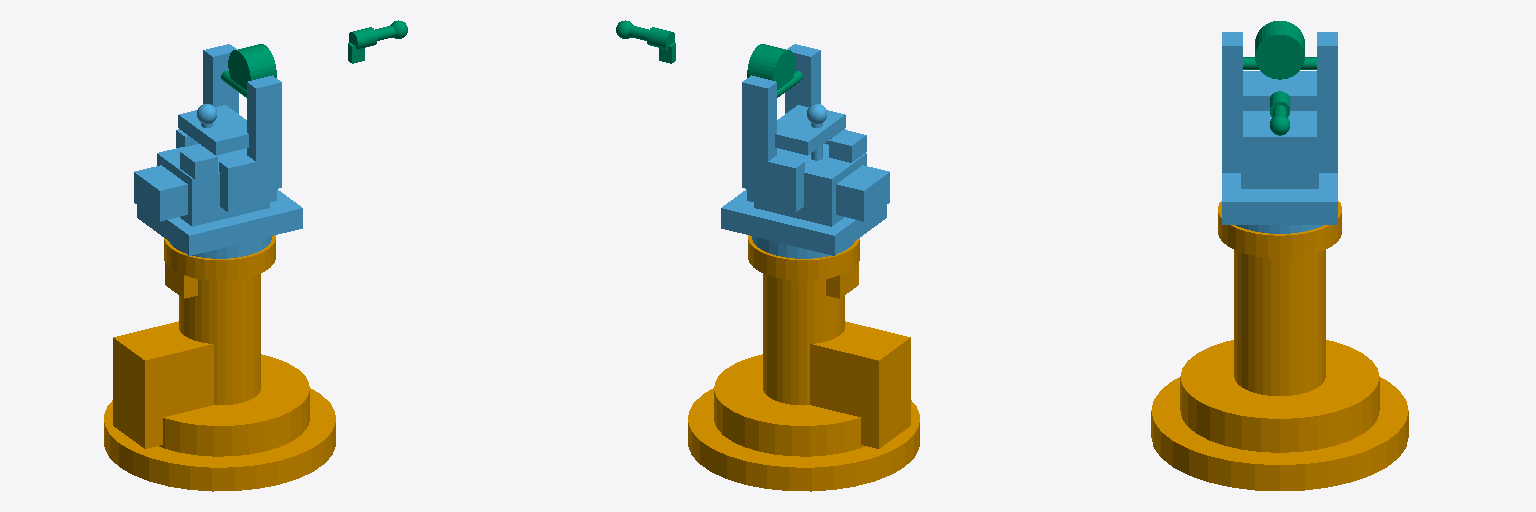
URDF robot description (radar_dish):
<robot name="radar_dish">
  <link name="pedestal">
    <inertial>
      <origin xyz="0 0 0.625" rpy="0 0 0" />
      <mass value="620" />
      <inertia ixx="160.172" ixy="0" ixz="0" iyy="160.172" iyz="0" izz="158.885" />
    </inertial>
    <visual>
      <origin xyz="0 0 0.07" rpy="0 0 0" />
      <geometry>
        <cylinder radius="0.62" length="0.14" />
      </geometry>
    </visual>
    <visual>
      <origin xyz="0 0 0.23" rpy="0 0 0" />
      <geometry>
        <cylinder radius="0.48" length="0.18" />
      </geometry>
    </visual>
    <visual>
      <origin xyz="0 0 0.7" rpy="0 0 0" />
      <geometry>
        <cylinder radius="0.22" length="0.78" />
      </geometry>
    </visual>
    <visual>
      <origin xyz="0 0 1.15" rpy="0 0 0" />
      <geometry>
        <cylinder radius="0.3" length="0.12" />
      </geometry>
    </visual>
    <visual>
      <origin xyz="-0.34 0 0.42" rpy="0 0 0" />
      <geometry>
        <box size="0.44 0.34 0.52" />
      </geometry>
    </visual>
    <visual>
      <origin xyz="-0.2 0 1.04" rpy="0 0 0" />
      <geometry>
        <box size="0.16 0.2 0.18" />
      </geometry>
    </visual>
    <collision name="pedestal__visual_1">
      <origin xyz="0 0 0.07" rpy="0 0 0" />
      <geometry>
        <cylinder radius="0.62" length="0.14" />
      </geometry>
    </collision>
    <collision name="pedestal__visual_2">
      <origin xyz="0 0 0.23" rpy="0 0 0" />
      <geometry>
        <cylinder radius="0.48" length="0.18" />
      </geometry>
    </collision>
    <collision name="pedestal__visual_3">
      <origin xyz="0 0 0.7" rpy="0 0 0" />
      <geometry>
        <cylinder radius="0.22" length="0.78" />
      </geometry>
    </collision>
    <collision name="pedestal__visual_4">
      <origin xyz="0 0 1.15" rpy="0 0 0" />
      <geometry>
        <cylinder radius="0.3" length="0.12" />
      </geometry>
    </collision>
    <collision name="pedestal__visual_5">
      <origin xyz="-0.34 0 0.42" rpy="0 0 0" />
      <geometry>
        <box size="0.44 0.34 0.52" />
      </geometry>
    </collision>
    <collision name="pedestal__visual_6">
      <origin xyz="-0.2 0 1.04" rpy="0 0 0" />
      <geometry>
        <box size="0.16 0.2 0.18" />
      </geometry>
    </collision>
  </link>
  <link name="yaw_head">
    <inertial>
      <origin xyz="0 0 0.54" rpy="0 0 0" />
      <mass value="210" />
      <inertia ixx="26.712" ixy="0" ixz="0" iyy="31.059" iyz="0" izz="16.947" />
    </inertial>
    <visual>
      <origin xyz="0 0 0.04" rpy="0 0 0" />
      <geometry>
        <cylinder radius="0.28" length="0.08" />
      </geometry>
    </visual>
    <visual>
      <origin xyz="0 0 0.14" rpy="0 0 0" />
      <geometry>
        <box size="0.7 0.56 0.12" />
      </geometry>
    </visual>
    <visual>
      <origin xyz="-0.04 0 0.34" rpy="0 0 0" />
      <geometry>
        <box size="0.48 0.38 0.28" />
      </geometry>
    </visual>
    <visual>
      <origin xyz="-0.34 0 0.34" rpy="0 0 0" />
      <geometry>
        <box size="0.22 0.28 0.18" />
      </geometry>
    </visual>
    <visual>
      <origin xyz="0.04 0.23 0.41" rpy="0 0 0" />
      <geometry>
        <box size="0.3 0.1 0.26" />
      </geometry>
    </visual>
    <visual>
      <origin xyz="0.04 -0.23 0.41" rpy="0 0 0" />
      <geometry>
        <box size="0.3 0.1 0.26" />
      </geometry>
    </visual>
    <visual>
      <origin xyz="0.14 0.23 0.66" rpy="0 0 0" />
      <geometry>
        <box size="0.16 0.1 0.62" />
      </geometry>
    </visual>
    <visual>
      <origin xyz="0.14 -0.23 0.66" rpy="0 0 0" />
      <geometry>
        <box size="0.16 0.1 0.62" />
      </geometry>
    </visual>
    <visual>
      <origin xyz="0 0 0.63" rpy="0 0 0" />
      <geometry>
        <box size="0.28 0.4 0.08" />
      </geometry>
    </visual>
    <visual>
      <origin xyz="0.14 0.23 0.84" rpy="1.5708 0 0" />
      <geometry>
        <cylinder radius="0.08" length="0.1" />
      </geometry>
    </visual>
    <visual>
      <origin xyz="0.14 -0.23 0.84" rpy="1.5708 0 0" />
      <geometry>
        <cylinder radius="0.08" length="0.1" />
      </geometry>
    </visual>
    <visual>
      <origin xyz="-0.08 0 0.59" rpy="0 0 0" />
      <geometry>
        <cylinder radius="0.03" length="0.22" />
      </geometry>
    </visual>
    <visual>
      <origin xyz="-0.08 0 0.74" rpy="0 0 0" />
      <geometry>
        <sphere radius="0.055" />
      </geometry>
    </visual>
    <visual>
      <origin xyz="-0.2 -0.12 0.53" rpy="0 0 0" />
      <geometry>
        <box size="0.14 0.16 0.1" />
      </geometry>
    </visual>
    <collision name="yaw_head__visual_1">
      <origin xyz="0 0 0.04" rpy="0 0 0" />
      <geometry>
        <cylinder radius="0.28" length="0.08" />
      </geometry>
    </collision>
    <collision name="yaw_head__visual_2">
      <origin xyz="0 0 0.14" rpy="0 0 0" />
      <geometry>
        <box size="0.7 0.56 0.12" />
      </geometry>
    </collision>
    <collision name="yaw_head__visual_3">
      <origin xyz="-0.04 0 0.34" rpy="0 0 0" />
      <geometry>
        <box size="0.48 0.38 0.28" />
      </geometry>
    </collision>
    <collision name="yaw_head__visual_4">
      <origin xyz="-0.34 0 0.34" rpy="0 0 0" />
      <geometry>
        <box size="0.22 0.28 0.18" />
      </geometry>
    </collision>
    <collision name="yaw_head__visual_5">
      <origin xyz="0.04 0.23 0.41" rpy="0 0 0" />
      <geometry>
        <box size="0.3 0.1 0.26" />
      </geometry>
    </collision>
    <collision name="yaw_head__visual_6">
      <origin xyz="0.04 -0.23 0.41" rpy="0 0 0" />
      <geometry>
        <box size="0.3 0.1 0.26" />
      </geometry>
    </collision>
    <collision name="yaw_head__visual_7">
      <origin xyz="0.14 0.23 0.66" rpy="0 0 0" />
      <geometry>
        <box size="0.16 0.1 0.62" />
      </geometry>
    </collision>
    <collision name="yaw_head__visual_8">
      <origin xyz="0.14 -0.23 0.66" rpy="0 0 0" />
      <geometry>
        <box size="0.16 0.1 0.62" />
      </geometry>
    </collision>
    <collision name="yaw_head__visual_9">
      <origin xyz="0 0 0.63" rpy="0 0 0" />
      <geometry>
        <box size="0.28 0.4 0.08" />
      </geometry>
    </collision>
    <collision name="yaw_head__visual_10">
      <origin xyz="0.14 0.23 0.84" rpy="1.5708 0 0" />
      <geometry>
        <cylinder radius="0.08" length="0.1" />
      </geometry>
    </collision>
    <collision name="yaw_head__visual_11">
      <origin xyz="0.14 -0.23 0.84" rpy="1.5708 0 0" />
      <geometry>
        <cylinder radius="0.08" length="0.1" />
      </geometry>
    </collision>
    <collision name="yaw_head__visual_12">
      <origin xyz="-0.08 0 0.59" rpy="0 0 0" />
      <geometry>
        <cylinder radius="0.03" length="0.22" />
      </geometry>
    </collision>
    <collision name="yaw_head__visual_13">
      <origin xyz="-0.08 0 0.74" rpy="0 0 0" />
      <geometry>
        <sphere radius="0.055" />
      </geometry>
    </collision>
    <collision name="yaw_head__visual_14">
      <origin xyz="-0.2 -0.12 0.53" rpy="0 0 0" />
      <geometry>
        <box size="0.14 0.16 0.1" />
      </geometry>
    </collision>
  </link>
  <link name="dish_assembly">
    <inertial>
      <origin xyz="0.5 -0.23 0.12" rpy="0 0 0" />
      <mass value="95" />
      <inertia ixx="22.6005" ixy="0" ixz="0" iyy="29.5046" iyz="0" izz="10.5521" />
    </inertial>
    <visual>
      <origin xyz="0 -0.23 0" rpy="1.5708 0 0" />
      <geometry>
        <cylinder radius="0.03" length="0.46" />
      </geometry>
    </visual>
    <visual>
      <origin xyz="0.06 -0.23 0.1" rpy="0 1.5708 0" />
      <geometry>
        <cylinder radius="0.12" length="0.16" />
      </geometry>
    </visual>
    <visual>
      <origin xyz="0.09 -0.23 0.12" rpy="0 1.5708 0" />
      <geometry>
        <mesh filename="meshes/dish_shell.glb" />
      </geometry>
    </visual>
    <visual>
      <origin xyz="0 0 0.12" rpy="0 0 0" />
      <geometry>
        <mesh filename="meshes/feed_arm_top.glb" />
      </geometry>
    </visual>
    <visual>
      <origin xyz="0 0 0.12" rpy="0 0 0" />
      <geometry>
        <mesh filename="meshes/feed_arm_left.glb" />
      </geometry>
    </visual>
    <visual>
      <origin xyz="0 0 0.12" rpy="0 0 0" />
      <geometry>
        <mesh filename="meshes/feed_arm_right.glb" />
      </geometry>
    </visual>
    <visual>
      <origin xyz="0.74 -0.23 0.12" rpy="0 1.5708 0" />
      <geometry>
        <cylinder radius="0.05" length="0.12" />
      </geometry>
    </visual>
    <visual>
      <origin xyz="0.86 -0.23 0.12" rpy="0 1.5708 0" />
      <geometry>
        <cylinder radius="0.032" length="0.16" />
      </geometry>
    </visual>
    <visual>
      <origin xyz="0.96 -0.23 0.12" rpy="0 0 0" />
      <geometry>
        <sphere radius="0.05" />
      </geometry>
    </visual>
    <visual>
      <origin xyz="0.7 -0.23 0.05" rpy="0 0 0" />
      <geometry>
        <box size="0.08 0.05 0.1" />
      </geometry>
    </visual>
    <collision name="dish_assembly__visual_1">
      <origin xyz="0 -0.23 0" rpy="1.5708 0 0" />
      <geometry>
        <cylinder radius="0.03" length="0.46" />
      </geometry>
    </collision>
    <collision name="dish_assembly__visual_2">
      <origin xyz="0.06 -0.23 0.1" rpy="0 1.5708 0" />
      <geometry>
        <cylinder radius="0.12" length="0.16" />
      </geometry>
    </collision>
    <collision name="dish_assembly__visual_3__hull_001">
      <origin xyz="0.09 -0.23 0.12" rpy="0 1.5708 0" />
      <geometry>
        <mesh filename="meshes/collision/cache/731ca2b1d0dae9eb1fc75119__hull_001.obj" />
      </geometry>
    </collision>
    <collision name="dish_assembly__visual_3__hull_002">
      <origin xyz="0.09 -0.23 0.12" rpy="0 1.5708 0" />
      <geometry>
        <mesh filename="meshes/collision/cache/731ca2b1d0dae9eb1fc75119__hull_002.obj" />
      </geometry>
    </collision>
    <collision name="dish_assembly__visual_3__hull_003">
      <origin xyz="0.09 -0.23 0.12" rpy="0 1.5708 0" />
      <geometry>
        <mesh filename="meshes/collision/cache/731ca2b1d0dae9eb1fc75119__hull_003.obj" />
      </geometry>
    </collision>
    <collision name="dish_assembly__visual_3__hull_004">
      <origin xyz="0.09 -0.23 0.12" rpy="0 1.5708 0" />
      <geometry>
        <mesh filename="meshes/collision/cache/731ca2b1d0dae9eb1fc75119__hull_004.obj" />
      </geometry>
    </collision>
    <collision name="dish_assembly__visual_3__hull_005">
      <origin xyz="0.09 -0.23 0.12" rpy="0 1.5708 0" />
      <geometry>
        <mesh filename="meshes/collision/cache/731ca2b1d0dae9eb1fc75119__hull_005.obj" />
      </geometry>
    </collision>
    <collision name="dish_assembly__visual_3__hull_006">
      <origin xyz="0.09 -0.23 0.12" rpy="0 1.5708 0" />
      <geometry>
        <mesh filename="meshes/collision/cache/731ca2b1d0dae9eb1fc75119__hull_006.obj" />
      </geometry>
    </collision>
    <collision name="dish_assembly__visual_3__hull_007">
      <origin xyz="0.09 -0.23 0.12" rpy="0 1.5708 0" />
      <geometry>
        <mesh filename="meshes/collision/cache/731ca2b1d0dae9eb1fc75119__hull_007.obj" />
      </geometry>
    </collision>
    <collision name="dish_assembly__visual_3__hull_008">
      <origin xyz="0.09 -0.23 0.12" rpy="0 1.5708 0" />
      <geometry>
        <mesh filename="meshes/collision/cache/731ca2b1d0dae9eb1fc75119__hull_008.obj" />
      </geometry>
    </collision>
    <collision name="dish_assembly__visual_4__hull_001">
      <origin xyz="0 0 0.12" rpy="0 0 0" />
      <geometry>
        <mesh filename="meshes/collision/cache/6a17ebba487c32fb1dcc4fa0__hull_001.obj" />
      </geometry>
    </collision>
    <collision name="dish_assembly__visual_4__hull_002">
      <origin xyz="0 0 0.12" rpy="0 0 0" />
      <geometry>
        <mesh filename="meshes/collision/cache/6a17ebba487c32fb1dcc4fa0__hull_002.obj" />
      </geometry>
    </collision>
    <collision name="dish_assembly__visual_4__hull_003">
      <origin xyz="0 0 0.12" rpy="0 0 0" />
      <geometry>
        <mesh filename="meshes/collision/cache/6a17ebba487c32fb1dcc4fa0__hull_003.obj" />
      </geometry>
    </collision>
    <collision name="dish_assembly__visual_5__hull_001">
      <origin xyz="0 0 0.12" rpy="0 0 0" />
      <geometry>
        <mesh filename="meshes/collision/cache/edaf54029e82f01c8b76296b__hull_001.obj" />
      </geometry>
    </collision>
    <collision name="dish_assembly__visual_5__hull_002">
      <origin xyz="0 0 0.12" rpy="0 0 0" />
      <geometry>
        <mesh filename="meshes/collision/cache/edaf54029e82f01c8b76296b__hull_002.obj" />
      </geometry>
    </collision>
    <collision name="dish_assembly__visual_6__hull_001">
      <origin xyz="0 0 0.12" rpy="0 0 0" />
      <geometry>
        <mesh filename="meshes/collision/cache/d68877a0c5f3d442bf52fb05__hull_001.obj" />
      </geometry>
    </collision>
    <collision name="dish_assembly__visual_6__hull_002">
      <origin xyz="0 0 0.12" rpy="0 0 0" />
      <geometry>
        <mesh filename="meshes/collision/cache/d68877a0c5f3d442bf52fb05__hull_002.obj" />
      </geometry>
    </collision>
    <collision name="dish_assembly__visual_7">
      <origin xyz="0.74 -0.23 0.12" rpy="0 1.5708 0" />
      <geometry>
        <cylinder radius="0.05" length="0.12" />
      </geometry>
    </collision>
    <collision name="dish_assembly__visual_8">
      <origin xyz="0.86 -0.23 0.12" rpy="0 1.5708 0" />
      <geometry>
        <cylinder radius="0.032" length="0.16" />
      </geometry>
    </collision>
    <collision name="dish_assembly__visual_9">
      <origin xyz="0.96 -0.23 0.12" rpy="0 0 0" />
      <geometry>
        <sphere radius="0.05" />
      </geometry>
    </collision>
    <collision name="dish_assembly__visual_10">
      <origin xyz="0.7 -0.23 0.05" rpy="0 0 0" />
      <geometry>
        <box size="0.08 0.05 0.1" />
      </geometry>
    </collision>
  </link>
  <joint name="azimuth" type="revolute">
    <origin xyz="0 0 1.21" rpy="0 0 0" />
    <parent link="pedestal" />
    <child link="yaw_head" />
    <axis xyz="0 0 1" />
    <limit effort="850" velocity="0.6" lower="-3.14159" upper="3.14159" />
  </joint>
  <joint name="elevation" type="revolute">
    <origin xyz="0.14 0.23 0.84" rpy="0 0 0" />
    <parent link="yaw_head" />
    <child link="dish_assembly" />
    <axis xyz="0 -1 0" />
    <limit effort="420" velocity="0.8" lower="-0.25" upper="1.05" />
  </joint>
</robot>

--- Facts derived from the render (not from the file) ---
Views: 3 orthographic renders of the robot side by side, from view 1: azimuth 30°, elevation 25°; view 2: azimuth 150°, elevation 25°; view 3: azimuth 270°, elevation 25°.
Robot: radar_dish — 3 links, 2 joints (2 revolute); root link pedestal; default pose: every joint at zero.
Links seen in each view (by area): view 1: pedestal, yaw_head, dish_assembly; view 2: pedestal, yaw_head, dish_assembly; view 3: pedestal, yaw_head, dish_assembly.
Boxes of the visible links, box(x1,y1,x2,y2) form: pedestal: box(104, 235, 335, 491); yaw_head: box(134, 44, 302, 258); dish_assembly: box(221, 20, 407, 97); pedestal: box(688, 235, 919, 491); yaw_head: box(721, 44, 889, 258); dish_assembly: box(616, 20, 802, 97); pedestal: box(1151, 201, 1408, 490); yaw_head: box(1222, 32, 1337, 233); dish_assembly: box(1243, 21, 1316, 135).
Bounding box of the posed robot: 1.77 × 1.24 × 2.27 m (x, y, z).
Meshes: 4 distinct files referenced, 0 mesh visuals loaded (none loaded); not drawn: 4 (reference not matched to a file when rendering).
